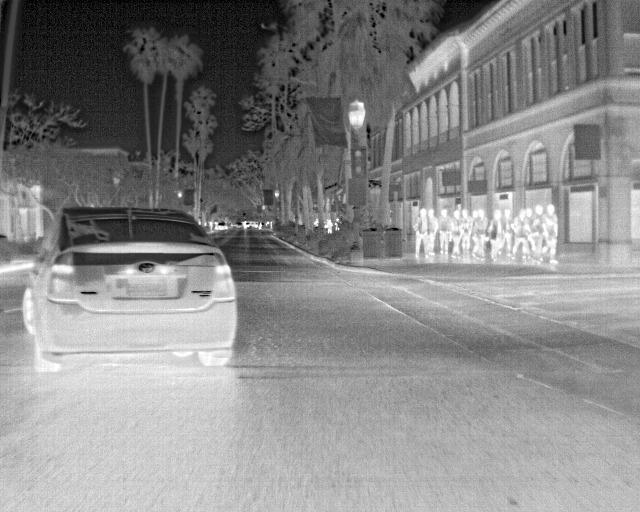bicycle: (19, 203, 239, 375), (213, 221, 228, 232)
empty: (512, 210, 533, 262), (541, 200, 559, 260), (489, 208, 505, 261), (436, 206, 452, 255), (413, 205, 427, 259), (475, 204, 489, 256), (451, 205, 464, 254), (520, 205, 539, 238), (425, 206, 437, 256), (462, 210, 476, 252), (501, 203, 513, 224)
